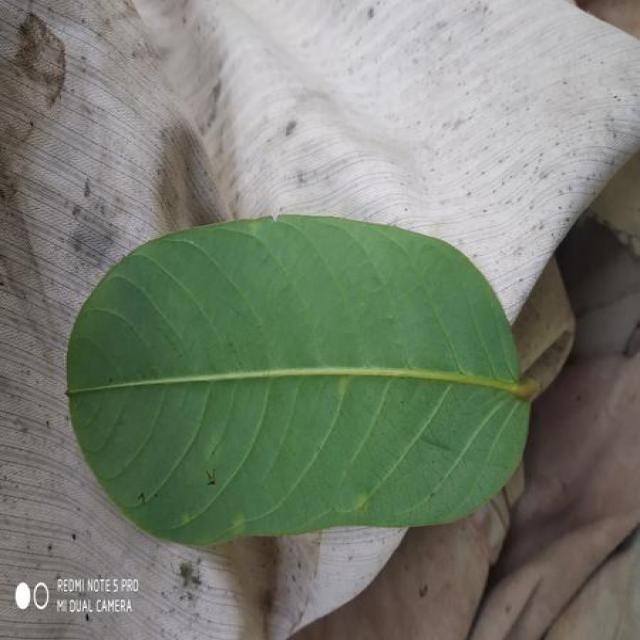chakte: (68, 218, 535, 544)
